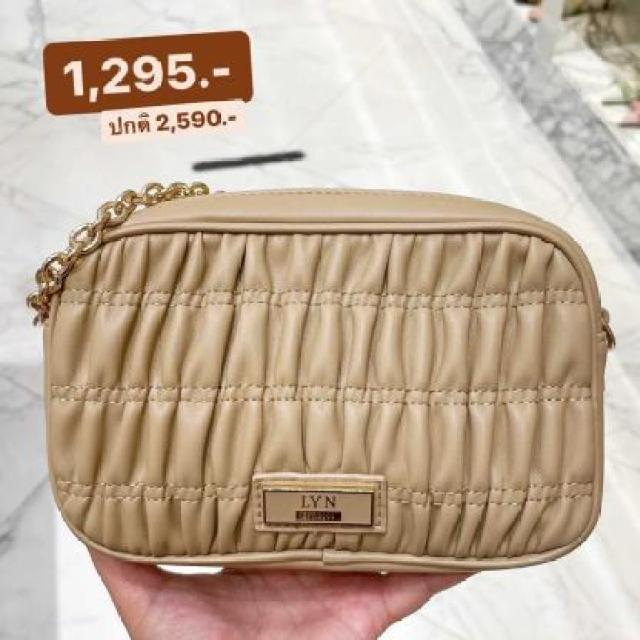Bag: (14, 161, 640, 594)
